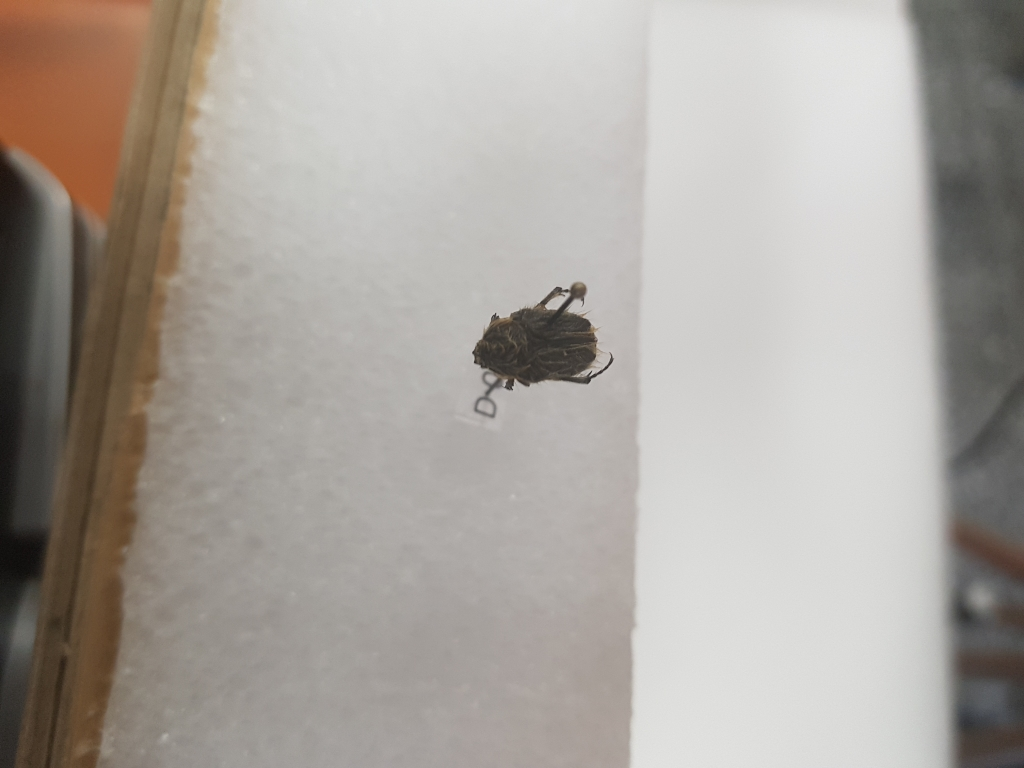Tropinota_senicula: (470, 276, 619, 388)
